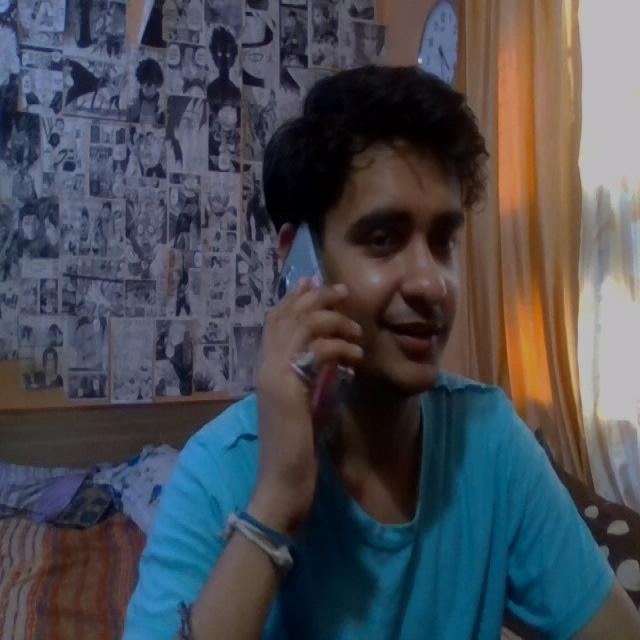oncall: (226, 115, 492, 429)
phone: (256, 231, 347, 381)
